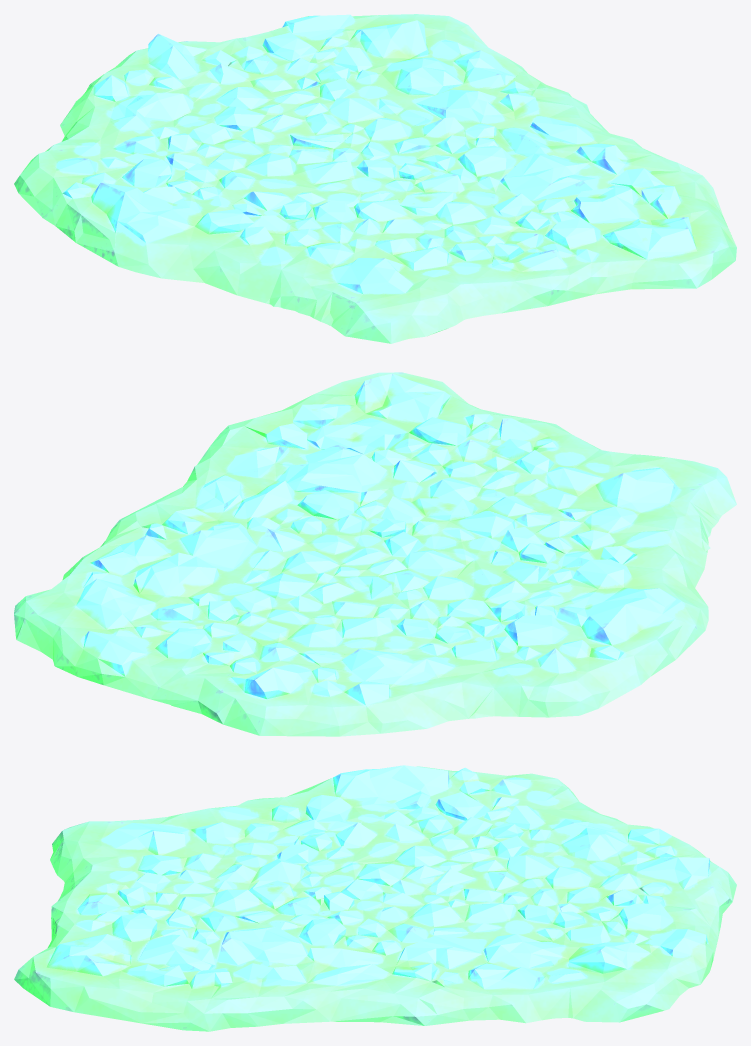
The model's file is DesertRoad.fbx.
3 renders of one model, top to bottom at view 1: azimuth 30°, elevation 25°; view 2: azimuth 150°, elevation 25°; view 3: azimuth 270°, elevation 25°, orthographic. The views are drawn at different scales.
Visible parts, largest first — view 1: Dn_HL_DesertRoad_A_01.mo; view 2: Dn_HL_DesertRoad_A_01.mo; view 3: Dn_HL_DesertRoad_A_01.mo.
Boxes of the visible parts, left/top/right/bottom form: Dn_HL_DesertRoad_A_01.mo: left=14, top=14, right=736, bottom=343; Dn_HL_DesertRoad_A_01.mo: left=14, top=372, right=736, bottom=736; Dn_HL_DesertRoad_A_01.mo: left=14, top=765, right=736, bottom=1031.
Size of the model in its own units: 1332 by 100 by 1623.
